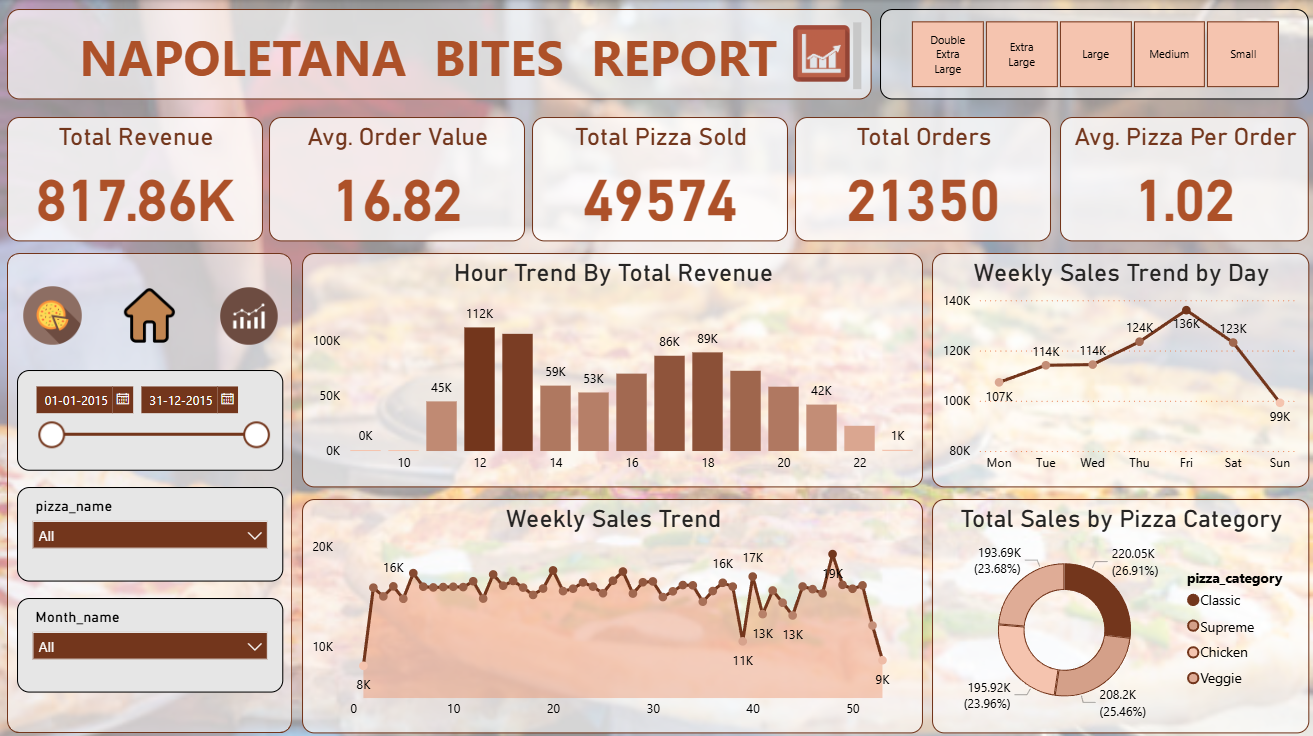

The page's visual inventory and layout, read from the dashboard file:
{"tool":"powerbi","page":{"name":"Dashboard","canvas":[1280,720],"ordinal":0},"visuals":[{"type":"textbox","box":[9.7,8.8,841.3,87.5],"z":1000},{"type":"card","title":"Total Revenue ","fields":{"Values":["Sum(pizza_sales.total_price)"]},"box":[9.7,113.8,249,120.6],"z":2000},{"type":"card","title":"Avg. Order Value","fields":{"Values":["Avg(pizza_sales.total_price)"]},"box":[264.6,113.8,249,120.6],"z":3000},{"type":"card","title":"Total Pizza Sold","fields":{"Values":["Sum(pizza_sales.quantity)"]},"box":[520.4,113.8,249,120.6],"z":4000},{"type":"card","title":"Total Orders","fields":{"Values":["Count(pizza_sales.order_id)"]},"box":[776.2,113.8,249,120.6],"z":5000},{"type":"card","title":"Avg. Pizza Per Order","fields":{"Values":["Avg(pizza_sales.quantity)"]},"box":[1033.9,113.8,242.2,120.6],"z":6000},{"type":"lineStackedColumnComboChart","title":"Hour Trend By Total Revenue","fields":{"Category":["pizza_sales.Order_hour"],"Y":["Sum(pizza_sales.total_price)"]},"box":[296.7,246.1,604,227.6],"z":7000},{"type":"areaChart","title":"Weekly Sales Trend","fields":{"Category":["pizza_sales.Week"],"Y":["Sum(pizza_sales.total_price)"]},"box":[296.7,485.3,604,227.6],"z":8000},{"type":"donutChart","title":"Total Sales by Pizza Category","fields":{"Category":["pizza_sales.pizza_category"],"Y":["Sum(pizza_sales.total_price)"]},"box":[909.4,485.3,366.7,227.6],"z":9000},{"type":"lineChart","title":"Weekly Sales Trend by Day","fields":{"Category":["pizza_sales.Order_day"],"Y":["Sum(pizza_sales.total_price)"]},"box":[909.4,246.1,366.7,227.6],"z":10000},{"type":"shape","box":[9.7,246.1,277.2,466.9],"z":11000},{"type":"slicer","fields":{"Values":["pizza_sales.order_date"]},"box":[19.5,359.9,258.7,98.2],"z":12000},{"type":"slicer","fields":{"Values":["pizza_sales.Size"]},"box":[858.8,8.8,417.3,87.5],"z":13000},{"type":"slicer","fields":{"Values":["pizza_sales.pizza_name"]},"box":[19.5,473.7,258.7,92.4],"z":14000},{"type":"slicer","fields":{"Values":["pizza_sales.Month_name"]},"box":[19.5,581.6,258.7,92.4],"z":15000},{"type":"image","box":[114.8,273.3,67.1,67.1],"z":15001},{"type":"image","box":[19.5,273.3,69.1,67.1],"z":15002},{"type":"image","box":[212,273.3,66.1,67.1],"z":15003},{"type":"image","box":[769.4,19.5,65.2,65.2],"z":15004}]}

Visuals, with their boxes in screenshot pixels (x1, y1, x2, y2), scaled from the page's 1280x720 canvas onto the 1313x736 screenshot:
textbox: [10,9,873,98]
"Total Revenue " card: [10,116,265,240]
"Avg. Order Value" card: [271,116,527,240]
"Total Pizza Sold" card: [534,116,789,240]
"Total Orders" card: [796,116,1052,240]
"Avg. Pizza Per Order" card: [1061,116,1309,240]
"Hour Trend By Total Revenue" lineStackedColumnComboChart: [304,252,924,484]
"Weekly Sales Trend" areaChart: [304,496,924,729]
"Total Sales by Pizza Category" donutChart: [933,496,1309,729]
"Weekly Sales Trend by Day" lineChart: [933,252,1309,484]
shape: [10,252,294,729]
slicer - pizza_sales.order_date: [20,368,285,468]
slicer - pizza_sales.Size: [881,9,1309,98]
slicer - pizza_sales.pizza_name: [20,484,285,579]
slicer - pizza_sales.Month_name: [20,595,285,689]
image: [118,279,187,348]
image: [20,279,91,348]
image: [217,279,285,348]
image: [789,20,856,87]
